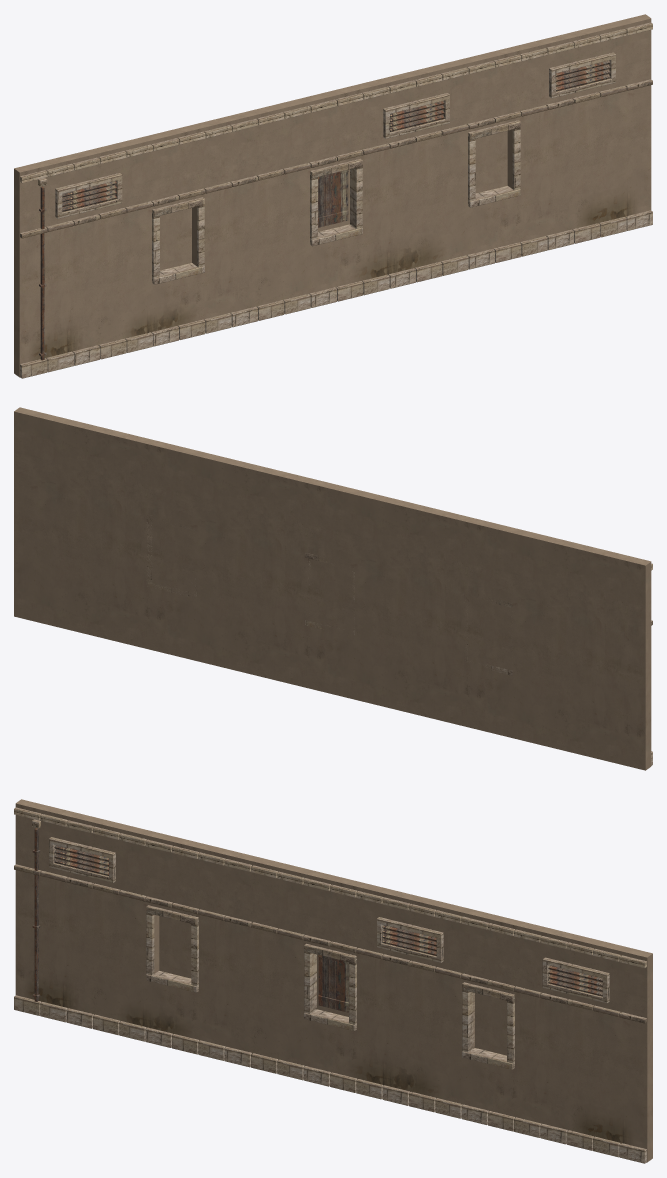
Rendered from service-south-east.glb.
The picture shows the model from 3 angles, top to bottom: view 1: azimuth 30°, elevation 25°; view 2: azimuth 150°, elevation 25°; view 3: azimuth 330°, elevation 25°; orthographic projection.
Parts seen in each view (by area): view 1: Blind plaster backing; view 2: Blind plaster backing; view 3: Blind plaster backing.
Part boxes in pixels (x1,y1,x2,y2): Blind plaster backing: [14, 14, 652, 378]; Blind plaster backing: [14, 407, 652, 770]; Blind plaster backing: [14, 799, 652, 1163].
Size of the model in its own units: 15.8 by 4.9 by 0.35.
4 materials, 4 textured.
